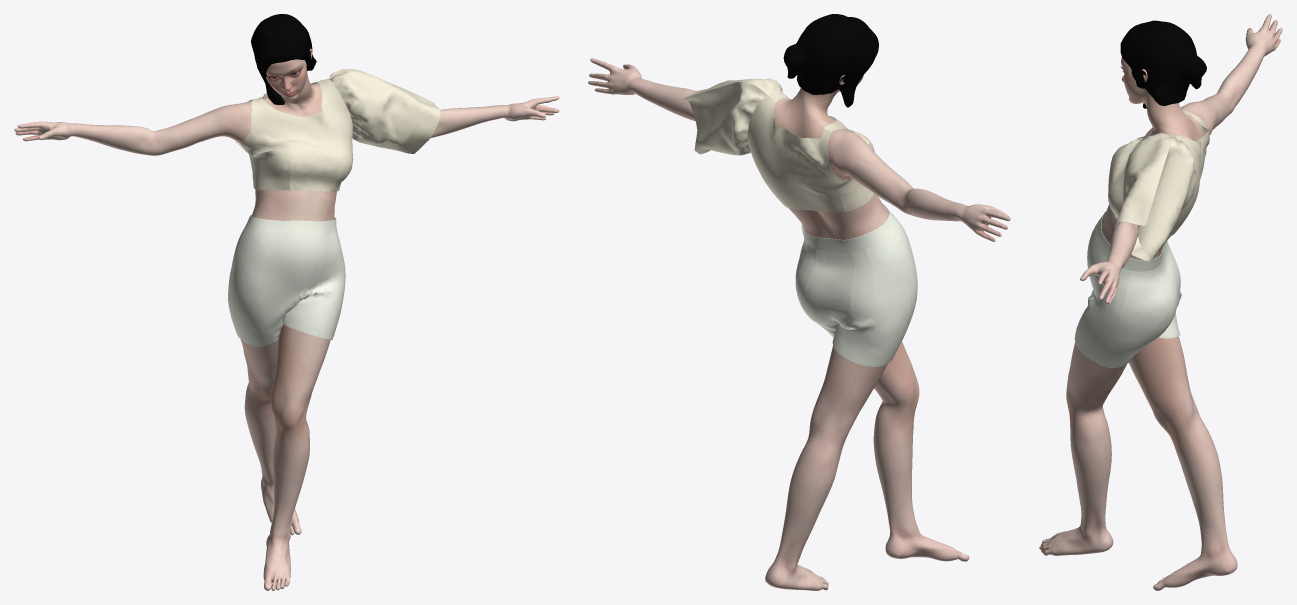
Rendered from Dramatic.obj.
3 views of the same model, side by side, from view 1: azimuth 30°, elevation 25°; view 2: azimuth 150°, elevation 25°; view 3: azimuth 270°, elevation 25° (orthographic). The views are drawn at different scales.
Bounding box in the file's own units: 1601 × 1717 × 679.
